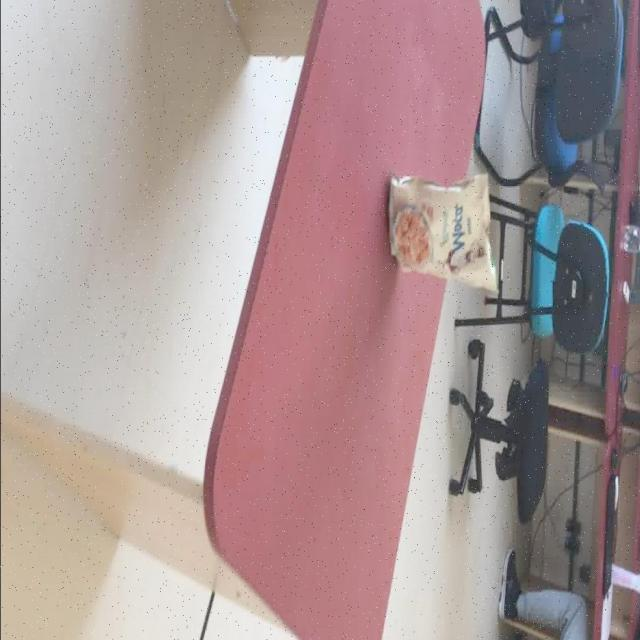CornFlakes: (389, 174, 499, 297), (392, 208, 433, 267)
